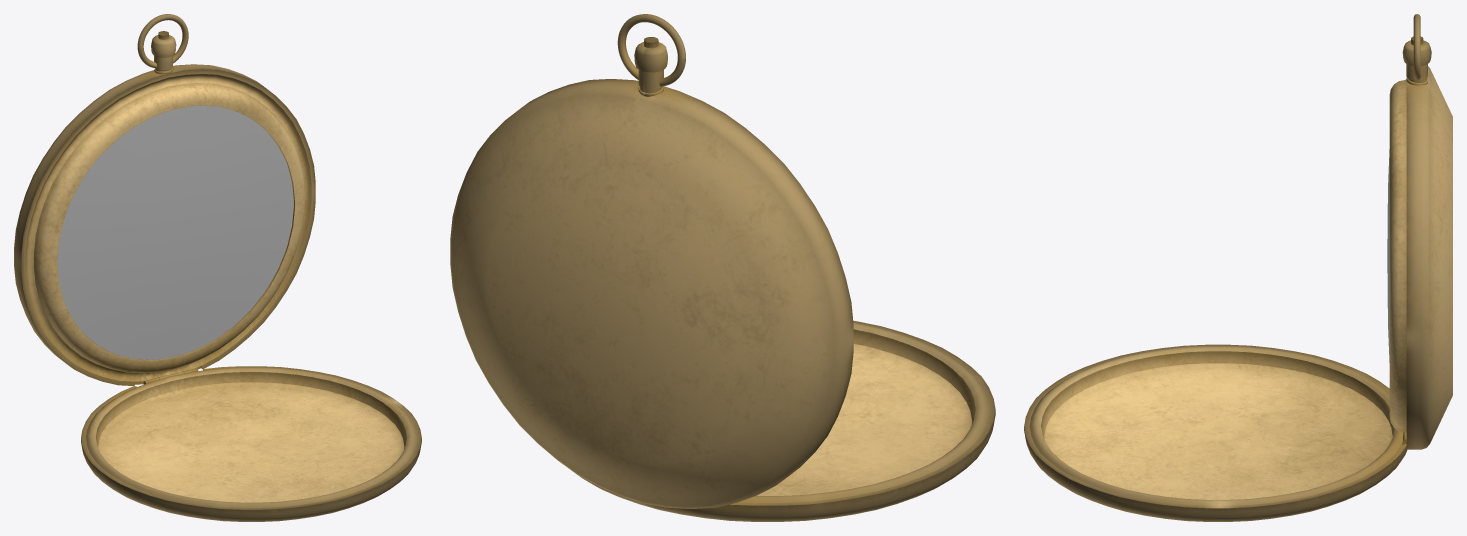
Rendered from Pocketwatch.glb.
3 views of the same model, side by side, from view 1: azimuth 30°, elevation 25°; view 2: azimuth 150°, elevation 25°; view 3: azimuth 270°, elevation 25° (orthographic). The views are drawn at different scales.
Parts seen in each view (by area): view 1: Watch bottom, Watch top; view 2: Watch bottom, Watch top; view 3: Watch top, Watch bottom.
Part boxes in pixels (left/top/right/bottom): Watch bottom: left=14, top=14, right=315, bottom=385; Watch top: left=81, top=366, right=421, bottom=521; Watch bottom: left=450, top=14, right=853, bottom=508; Watch top: left=571, top=321, right=995, bottom=521; Watch top: left=1024, top=344, right=1407, bottom=521; Watch bottom: left=1387, top=14, right=1452, bottom=449.
Size of the model in its own units: 0.9782 by 1.24 by 1.08.
Materials: 1 (1 with a texture image).
